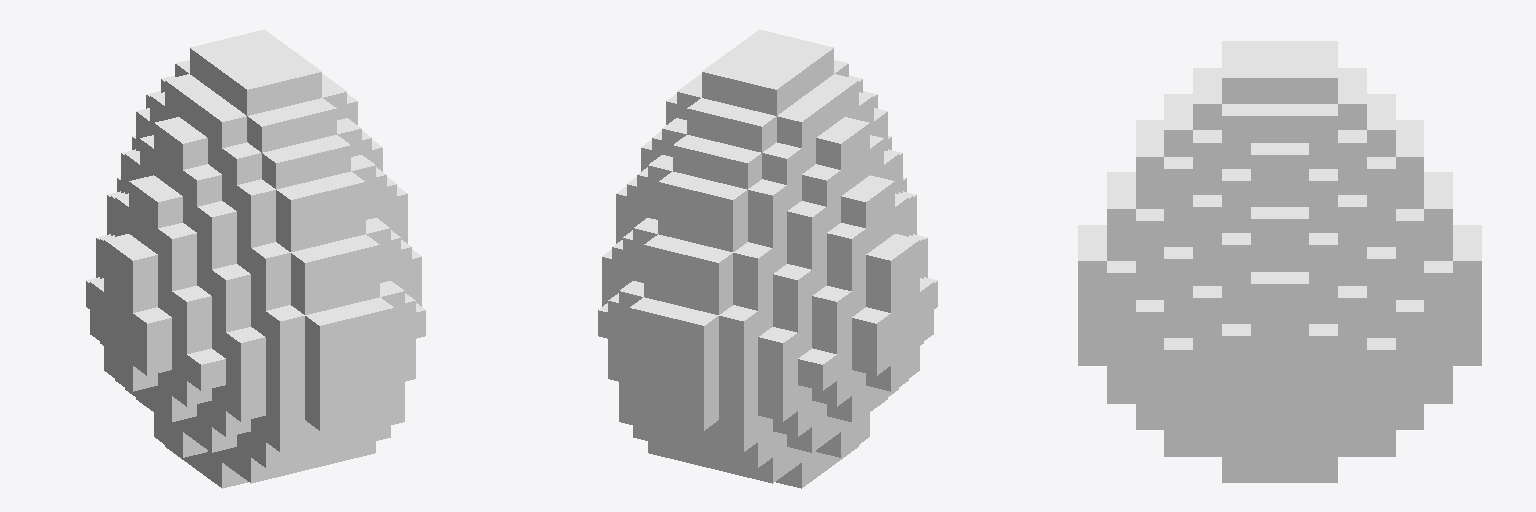
Rendered from Egg.obj.
3 views of the same model, side by side, from view 1: azimuth 30°, elevation 25°; view 2: azimuth 150°, elevation 25°; view 3: azimuth 270°, elevation 25° (orthographic).
Visible parts, largest first — view 1: Egg; view 2: Egg; view 3: Egg.
Part boxes in pixels (bbox=[...]): Egg: bbox=[86, 29, 425, 488]; Egg: bbox=[598, 29, 937, 488]; Egg: bbox=[1078, 41, 1481, 482].
Size of the model in its own units: 11 by 15 by 14.